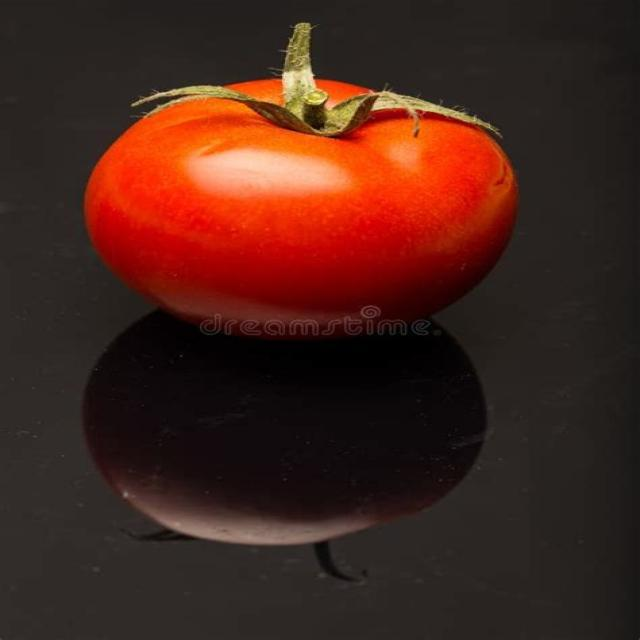Tomato: (83, 24, 520, 342)
